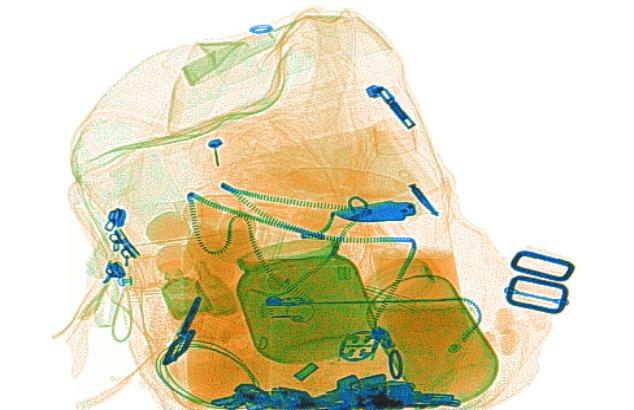knife: (325, 198, 416, 225)
